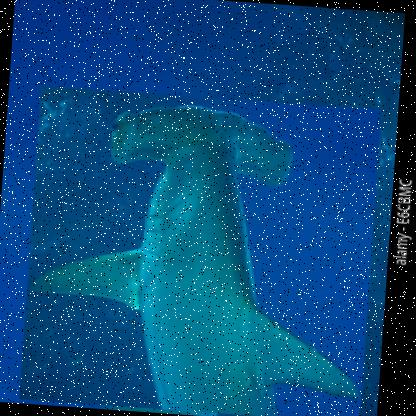hammerhead_Shark: (18, 85, 382, 415)
